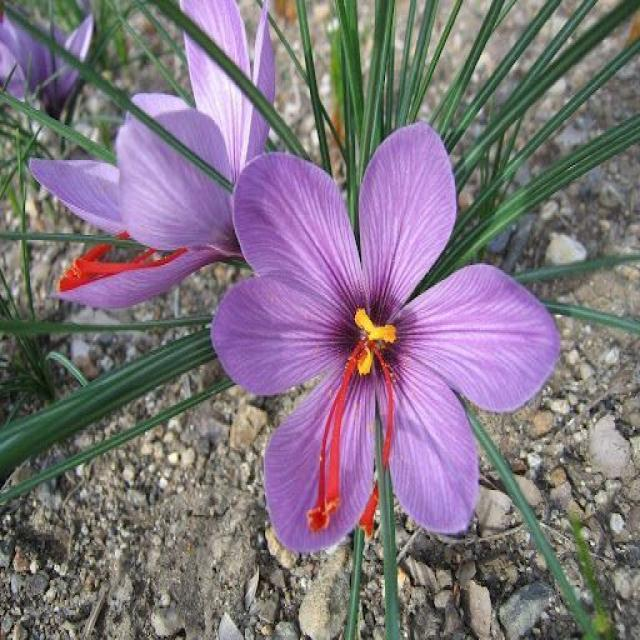Flower: (212, 123, 558, 550), (30, 0, 279, 311)
stigma: (305, 360, 358, 532), (357, 351, 397, 543), (320, 359, 357, 518), (55, 233, 125, 295), (69, 247, 187, 280)
